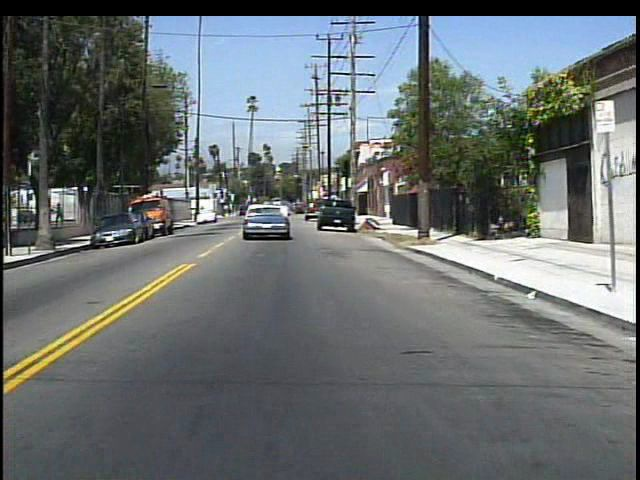person: (55, 199, 69, 228)
